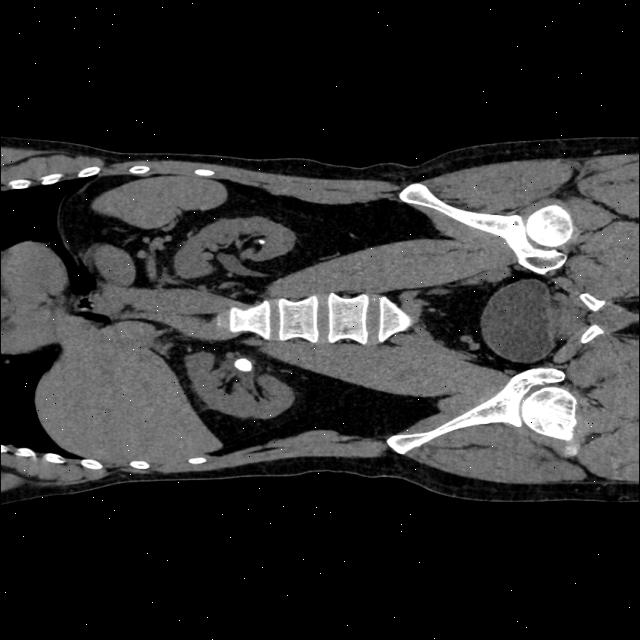kidneystone: (234, 358, 252, 370)
